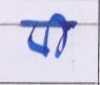i_matra: (51, 13, 65, 55)
